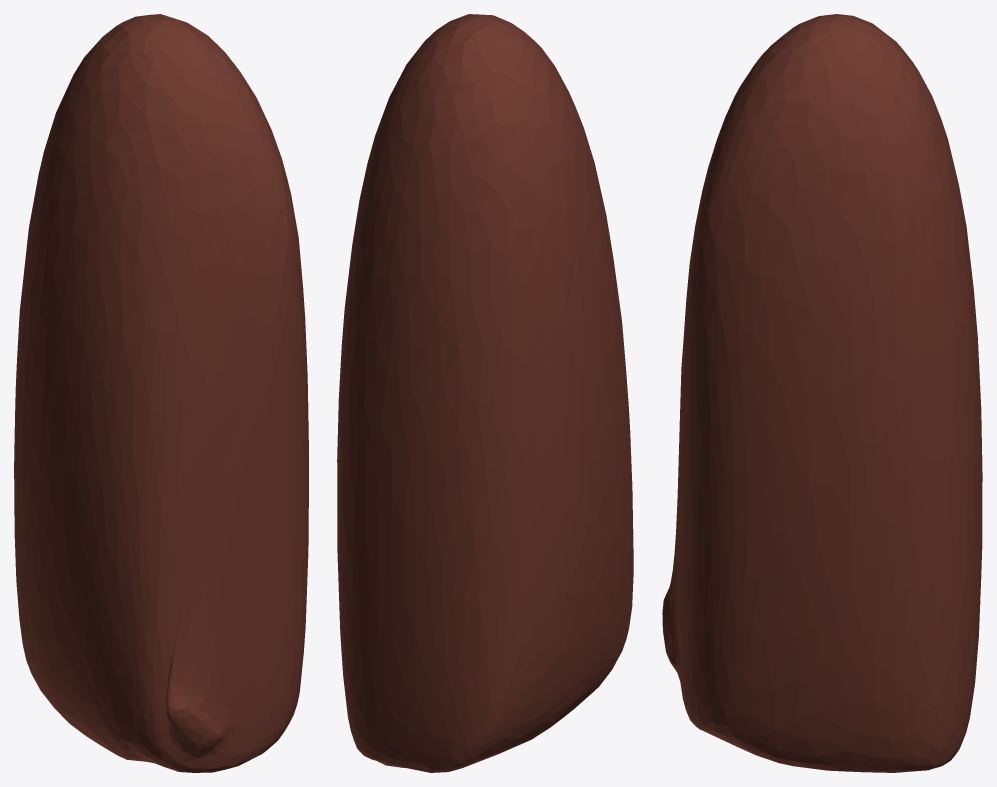
3 views of the same model, side by side, from view 1: azimuth 30°, elevation 25°; view 2: azimuth 150°, elevation 25°; view 3: azimuth 270°, elevation 25° (orthographic).
Parts seen in each view (by area): view 1: 071_Cube.289; view 2: 071_Cube.289; view 3: 071_Cube.289.
Boxes of the visible parts, box(x1,y1,x2,y2) form: 071_Cube.289: box(14, 14, 308, 772); 071_Cube.289: box(337, 14, 633, 772); 071_Cube.289: box(662, 14, 982, 772).
Bounding box in the file's own units: 3.82 × 11.45 × 4.53.
